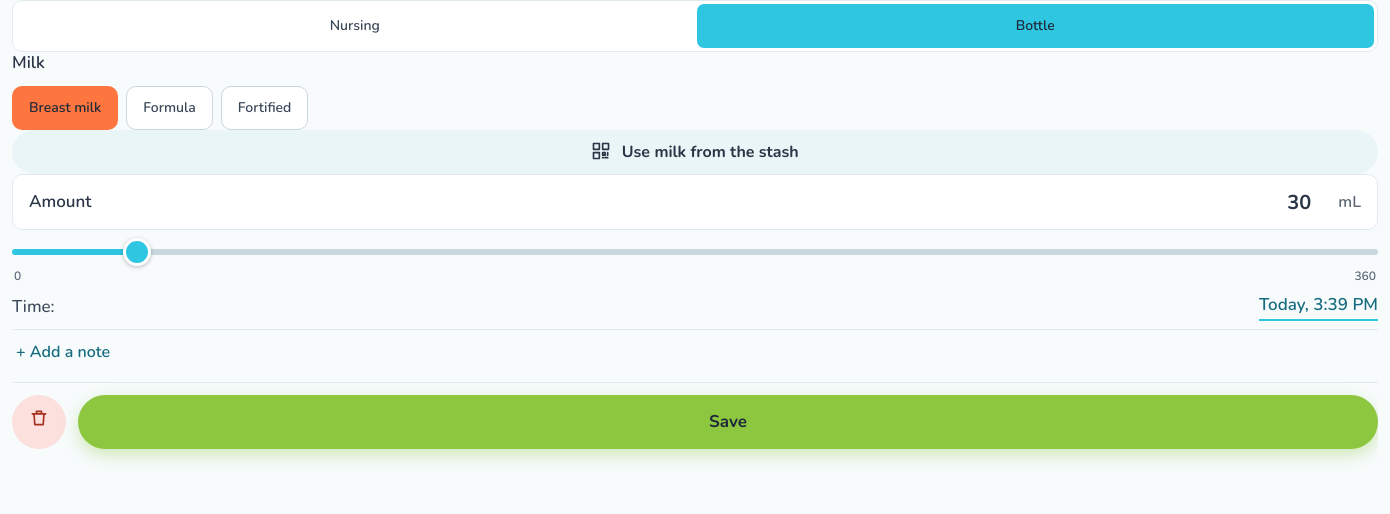
Test case: FeedingSheet › a new amount on a stash bottle waits while the milk it came from is not known (sweep 2026-11-24)
Check: the button "Save" is enabled, box [78,395,1378,449]
Replace the text in the number field named "Amount in mL" with "45" at (715,202), box [104,178,1326,226]
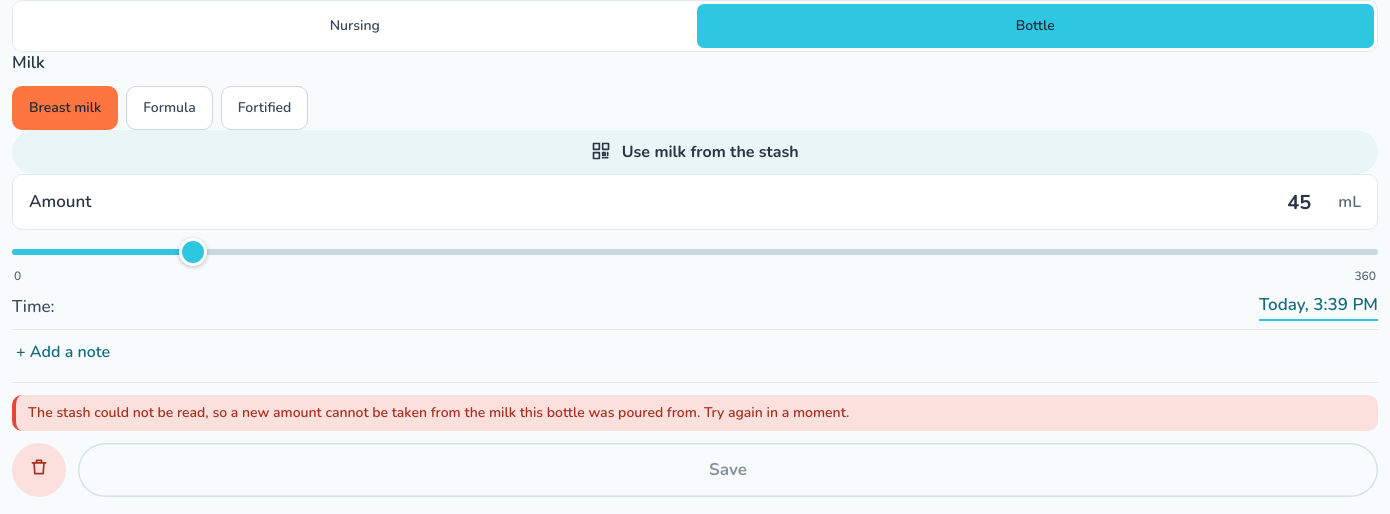
Check: the button "Save" is disabled, box [78,443,1378,497]
Check: the message with test id "takes-unknown" shows "The stash could not be read", box [28,403,849,422]
Replace the text in the number field named "Amount in mL" with "30" at (715,202), box [104,178,1326,226]
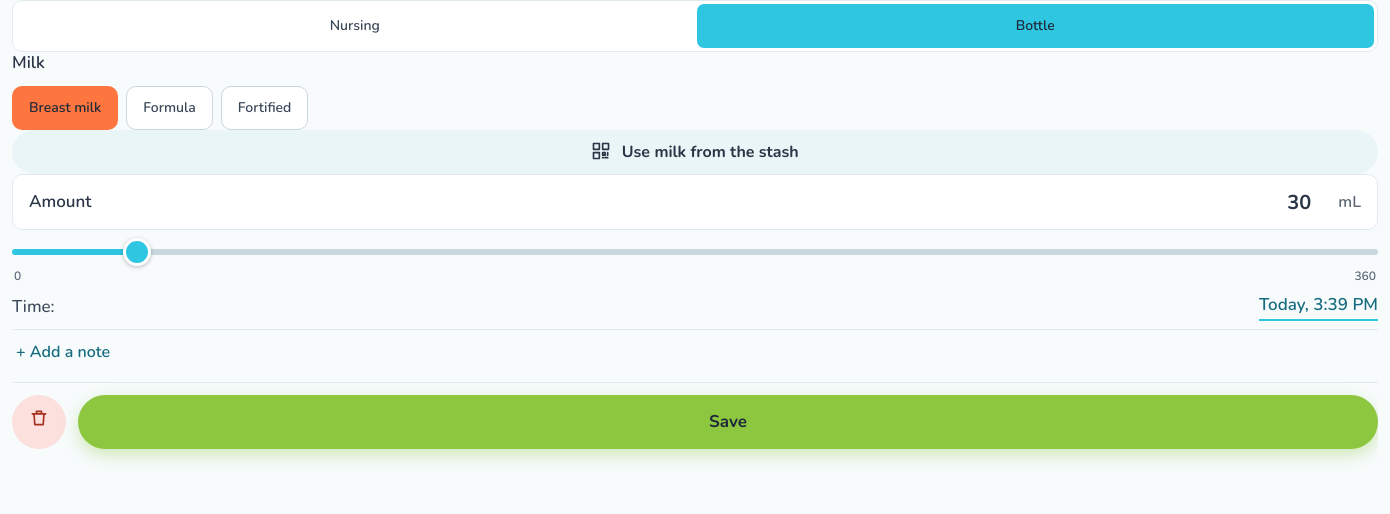
Check: the button "Save" is enabled, box [78,395,1378,449]
